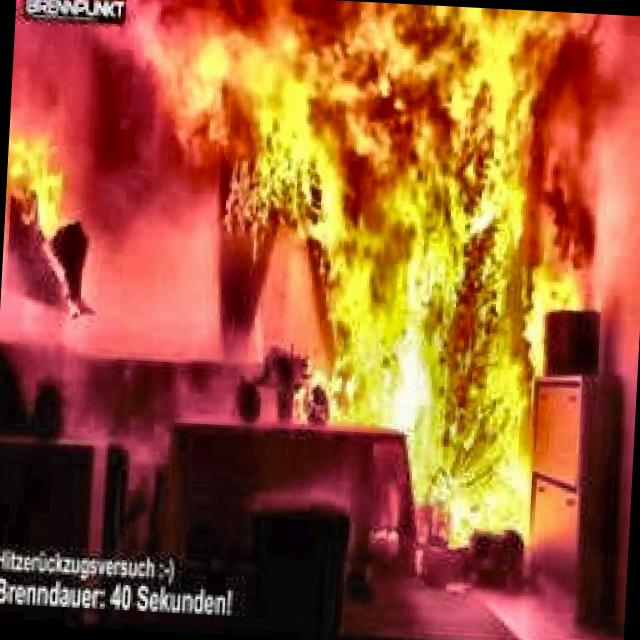fire: (2, 0, 640, 420)
